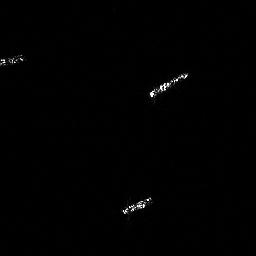ship: (145, 69, 192, 99), (119, 192, 156, 217), (1, 50, 25, 68)
